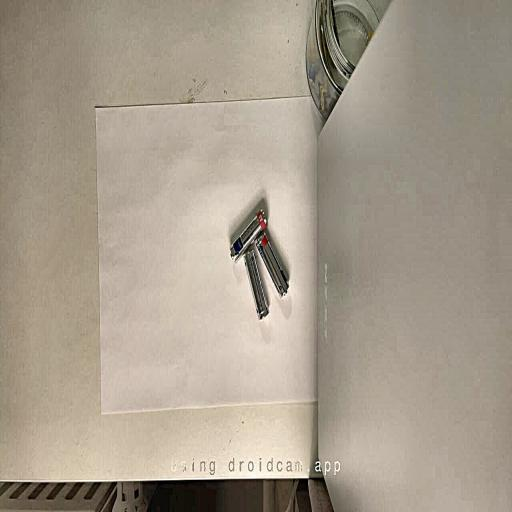RainbowAA: (256, 232, 288, 297), (230, 210, 267, 262), (244, 251, 268, 320)
